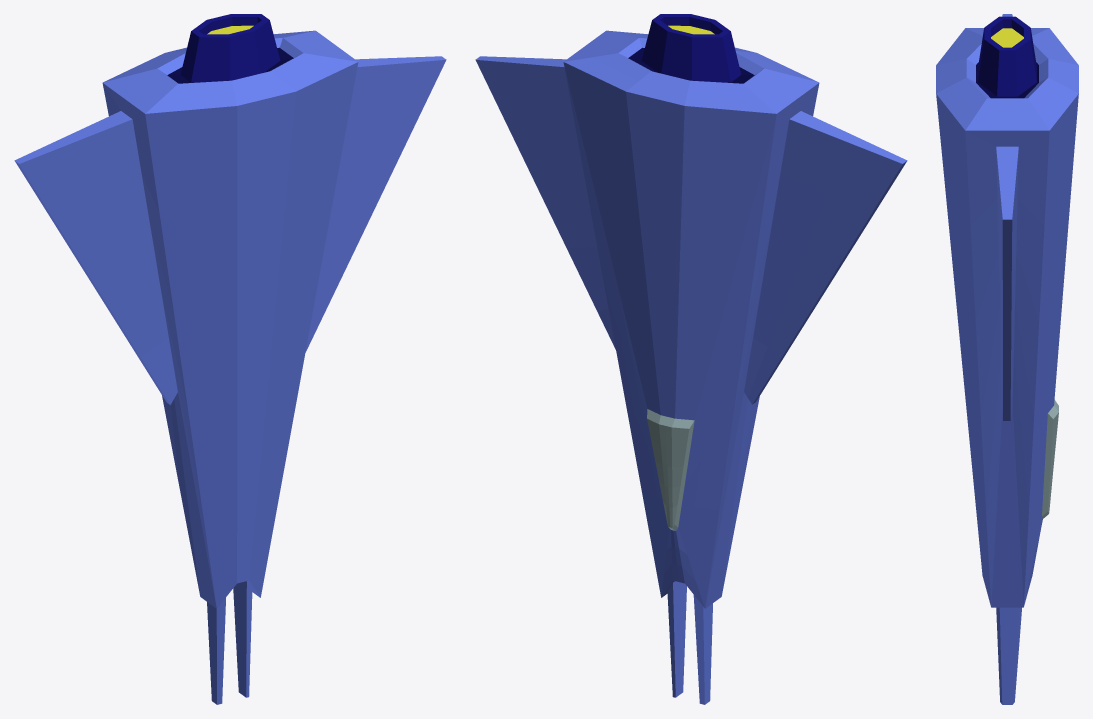
The model's file is playership2.fbx.
The picture shows the model from 3 angles, left to right: view 1: azimuth 30°, elevation 25°; view 2: azimuth 150°, elevation 25°; view 3: azimuth 270°, elevation 25°; orthographic projection.
Parts seen in each view (by area): view 1: playership; view 2: playership; view 3: playership.
Boxes of the visible parts, x1,y1,x2,y2 form: playership: (14, 14, 446, 704); playership: (475, 14, 907, 704); playership: (936, 14, 1078, 704).
Size of the model in its own units: 201 by 302 by 58.96.
